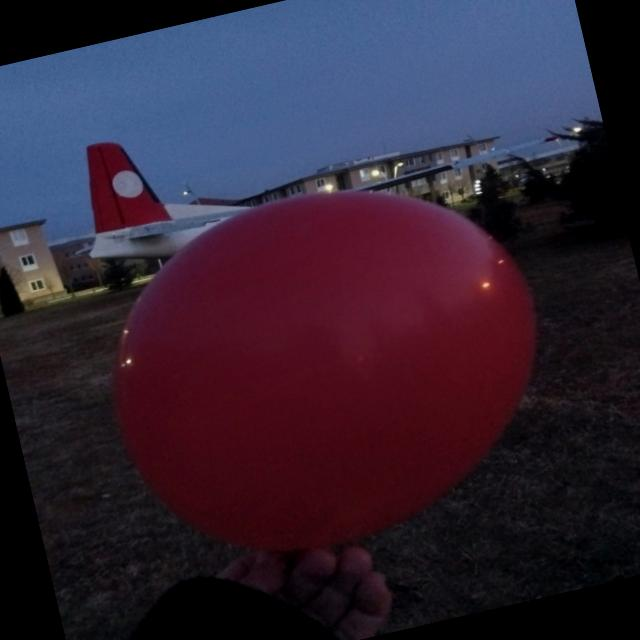balloon: (113, 192, 535, 550)
